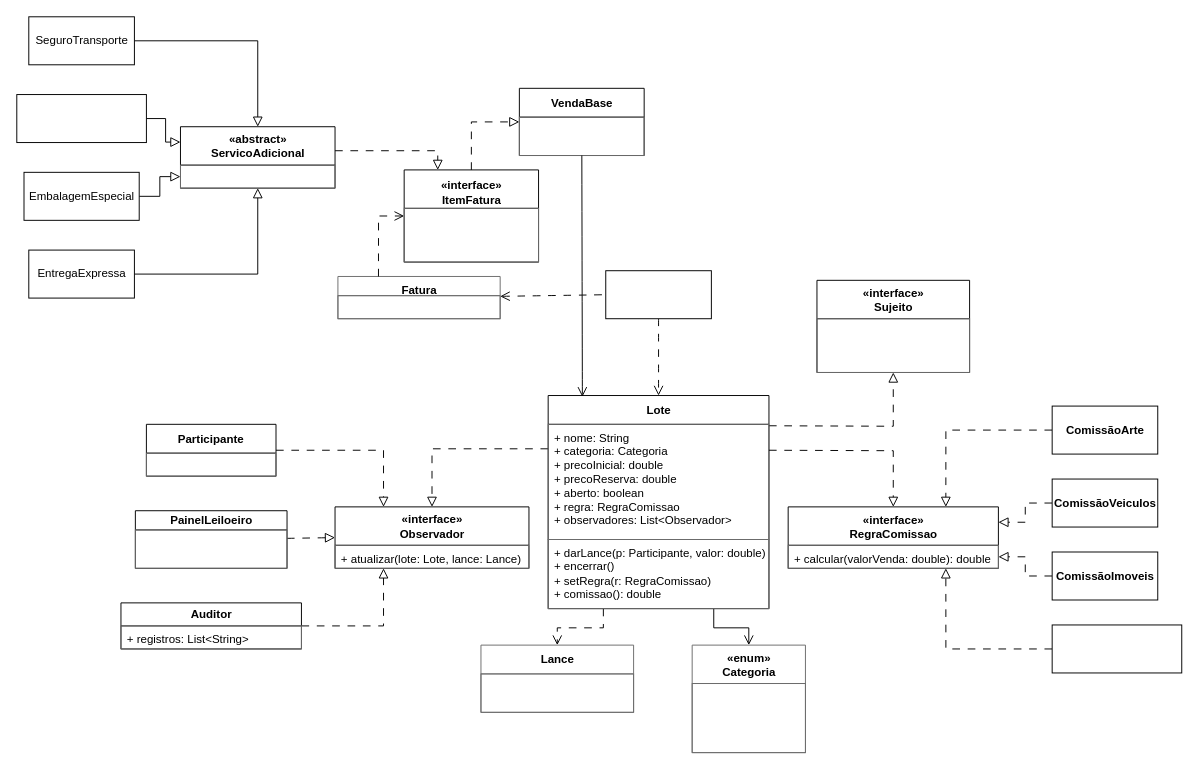
The diagram is 1199 pixels wide and 772 high, and some of its shapes have lost their labels. Here are the shapes that lost their labels. From the top down, the centre of each, then its label:
At pixel 81 118: "CertificadoAutenticidade".
At pixel 581 136: "+ lote: Lote + valorVenda: double".
At pixel 257 176: "+ interno: ItemFatura".
At pixel 471 234: "+ descricao(): String + valorVenda(): double + total(): double".
At pixel 418 307: "+ imprimir(item: ItemFatura)".
At pixel 658 294: "Main".
At pixel 893 345: "+adicionar( Observador) +remover(Observador) +notificar(Lance)".
At pixel 210 464: "+ nome: String".
At pixel 210 548: "+ maiorLance: double + totalLances: int".
At pixel 1116 648: "ComissãoEletronicos".
At pixel 557 692: "+ participante: Participante + valor: double".
At pixel 748 718: "ARTE VEICULOS IMOVEIS ELETRONICOS".
